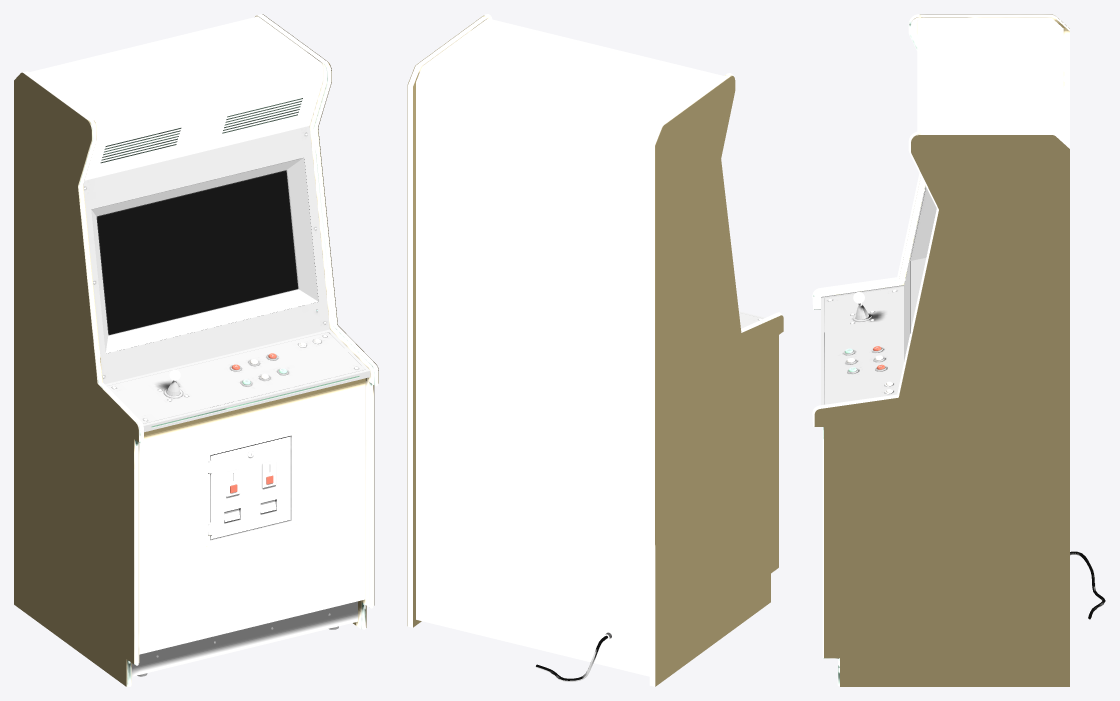
File: cab-ishikiri-v2.glb
3 renders of one model, left to right at view 1: azimuth 30°, elevation 25°; view 2: azimuth 150°, elevation 25°; view 3: azimuth 270°, elevation 25°, orthographic. The views are drawn at different scales.
Parts seen in each view (by area): view 1: body, side_art_l, screen, glass, trim, metal, side_art_r; view 2: body, side_art_l, side_art_r; view 3: side_art_r, body, trim.
Boxes of the visible parts, x1,y1,x2,y2 form: body: (22, 14, 378, 686); side_art_l: (14, 72, 138, 686); screen: (97, 171, 297, 334); glass: (98, 171, 298, 334); trim: (79, 60, 377, 686); metal: (84, 133, 358, 676); side_art_r: (262, 14, 378, 627); body: (407, 16, 780, 686); side_art_l: (655, 76, 783, 686); side_art_r: (407, 15, 483, 625); side_art_r: (814, 135, 1069, 686); body: (814, 14, 1069, 413); trim: (812, 14, 938, 686).
Bounding box in the file's own units: 0.903 × 1.94 × 0.9298.
24 materials, 6 textured.
